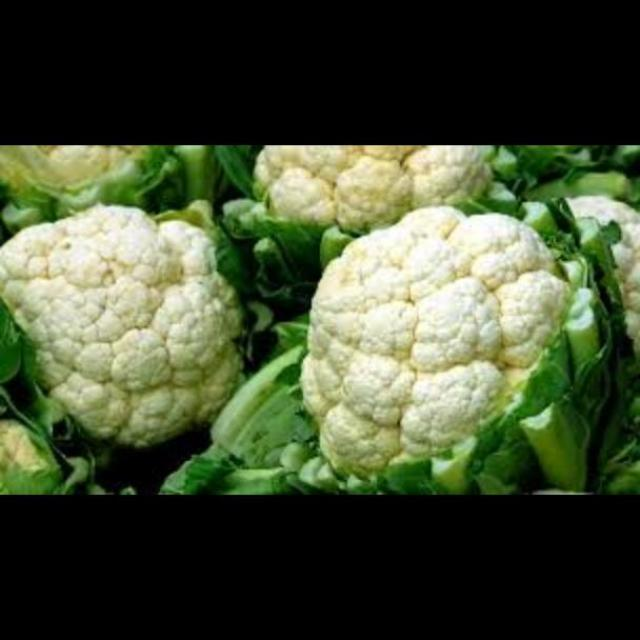cayliflower: (299, 199, 577, 462), (0, 204, 259, 444), (227, 145, 512, 236), (518, 180, 640, 351), (0, 146, 173, 192), (0, 420, 74, 494)
